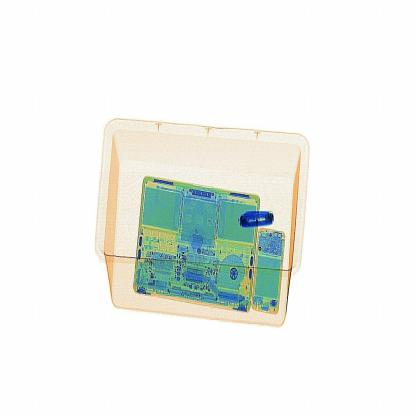scissors: (236, 199, 281, 234)
